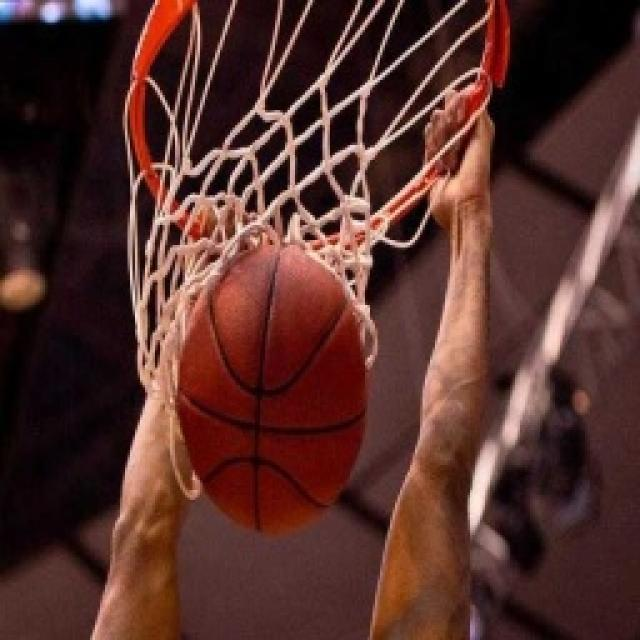rim: (164, 235, 381, 548)
